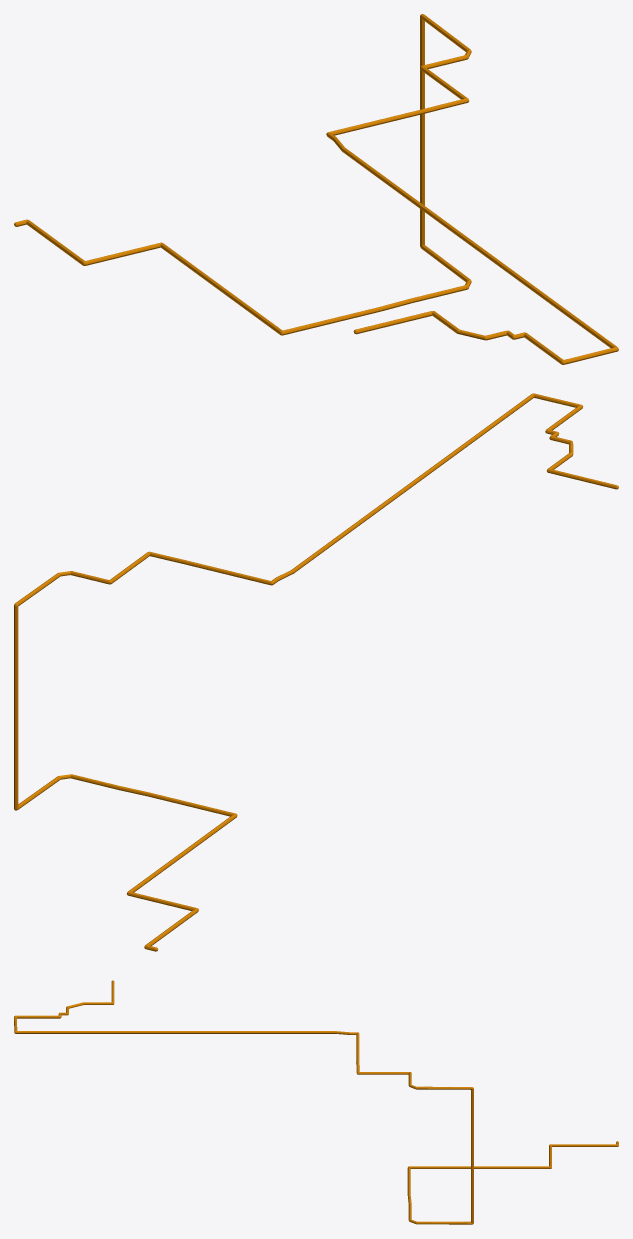
The picture shows the model from 3 angles, top to bottom: view 1: azimuth 30°, elevation 25°; view 2: azimuth 150°, elevation 25°; view 3: azimuth 270°, elevation 25°; orthographic projection. The views are drawn at different scales.
Bounding box in the file's own units: 1717 × 1020 × 4068.
